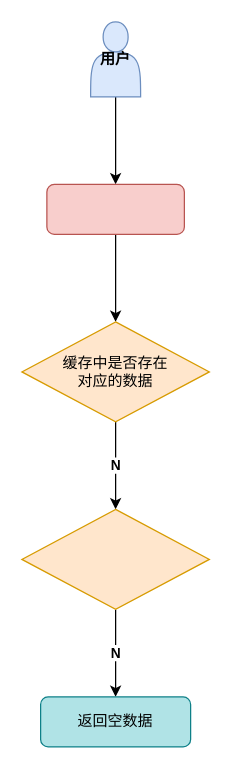
Some shapes in this 231 by 769 pixel diagram are drawn without their labels. The centre of each missing label's shape, as x and y in pixels:
"数据库中是否存在 对应的数据" goes at (115,558).
"用户请求" goes at (115,208).
